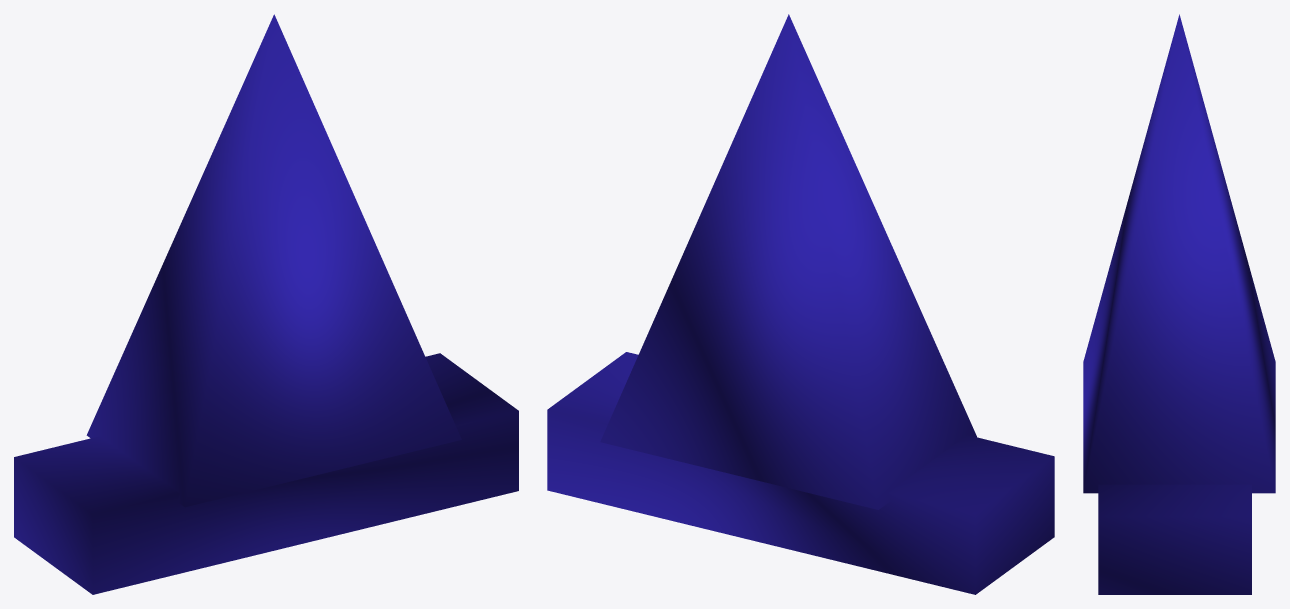
The model's file is ps2_jrpg_port_harbor_mooring_post.obj.
3 renders of one model, left to right at view 1: azimuth 30°, elevation 25°; view 2: azimuth 150°, elevation 25°; view 3: azimuth 270°, elevation 25°, orthographic. The views are drawn at different scales.
Size of the model in its own units: 1 by 1.11 by 0.4.
